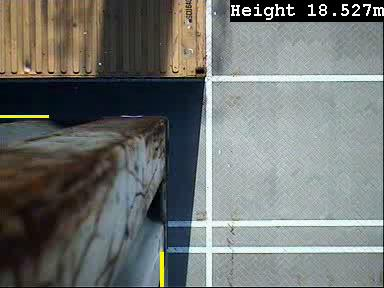groundmarker_2: (156, 147, 247, 203)
